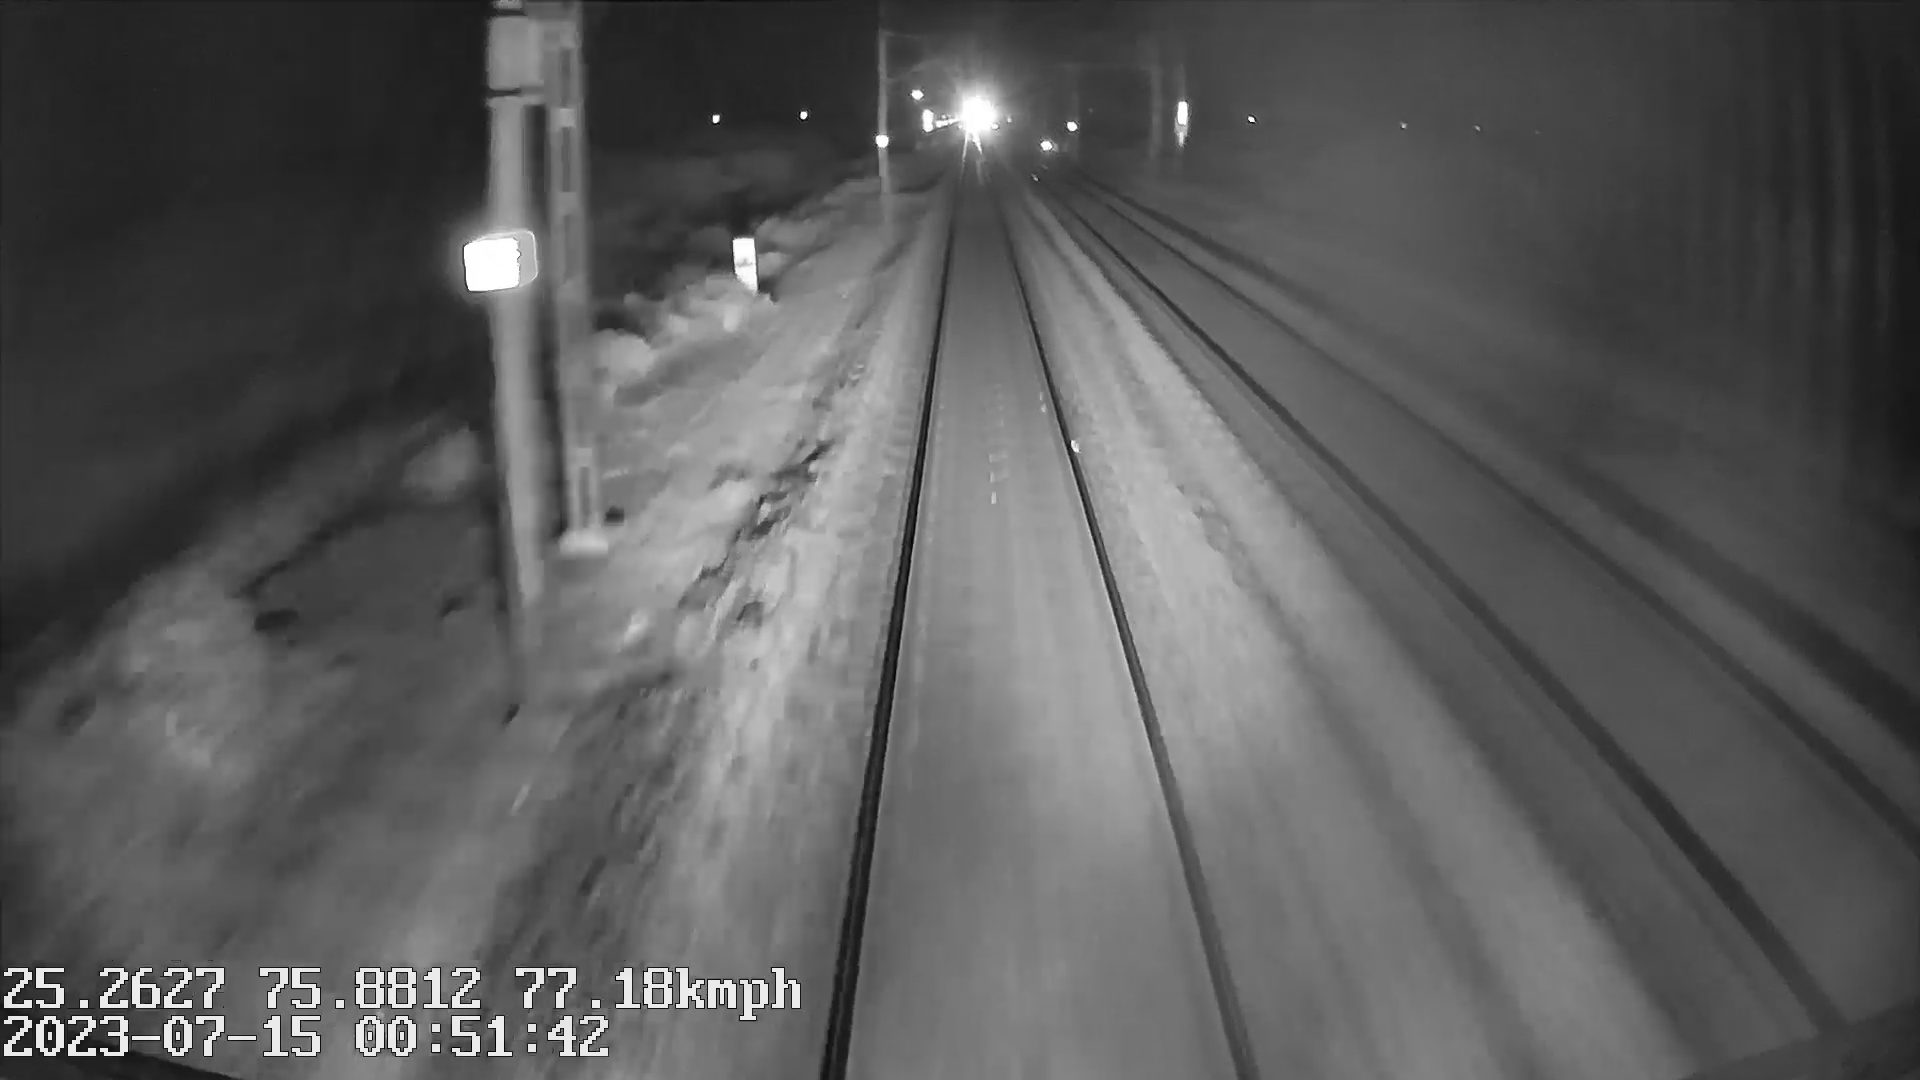track1: (833, 175, 1246, 1067)
track2: (1056, 186, 1909, 951)
